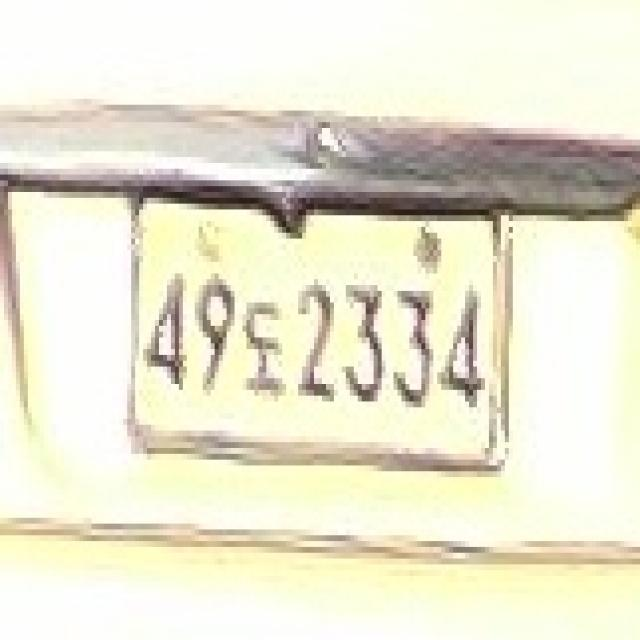2: (296, 272, 336, 408)
3: (341, 278, 390, 403), (396, 284, 440, 412)
4: (140, 272, 192, 394), (442, 283, 482, 418)
9: (194, 272, 239, 402)
do: (242, 290, 288, 410)
license_plate: (121, 154, 517, 491)
